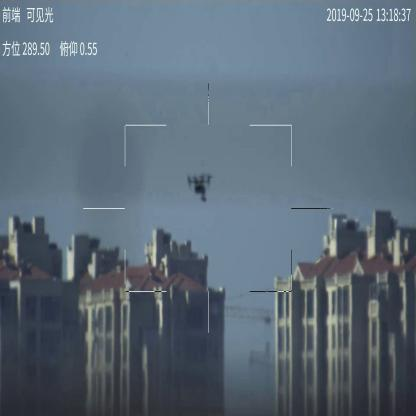uav: (184, 172, 212, 201)
